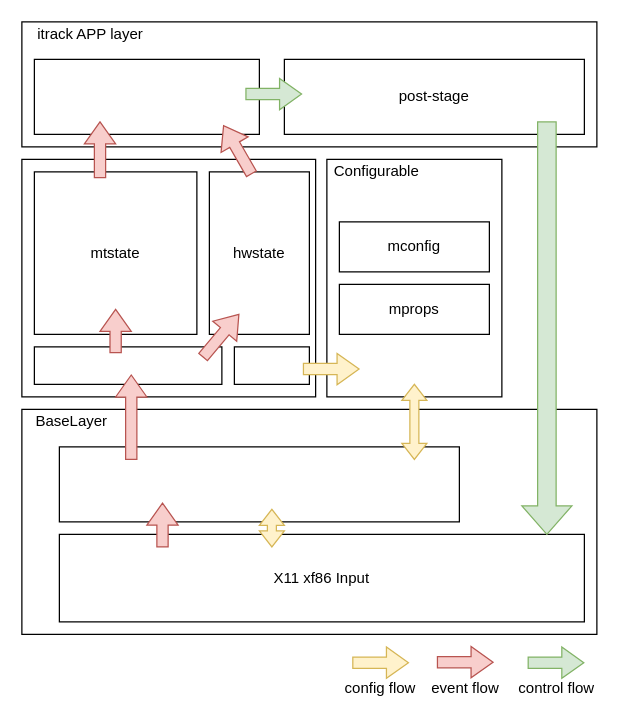
The diagram is 626 pixels wide and 723 high, and some of its shapes have lost their labels. The shapes that lost their labels are listed below. From the top down, each one's centre as x and y in pixels, then its label:
At point 146,96: "touch-handler".
At point 127,365: "itrack-main".
At point 271,365: "capability".
At point 258,484: "itrack interfacing X11".
